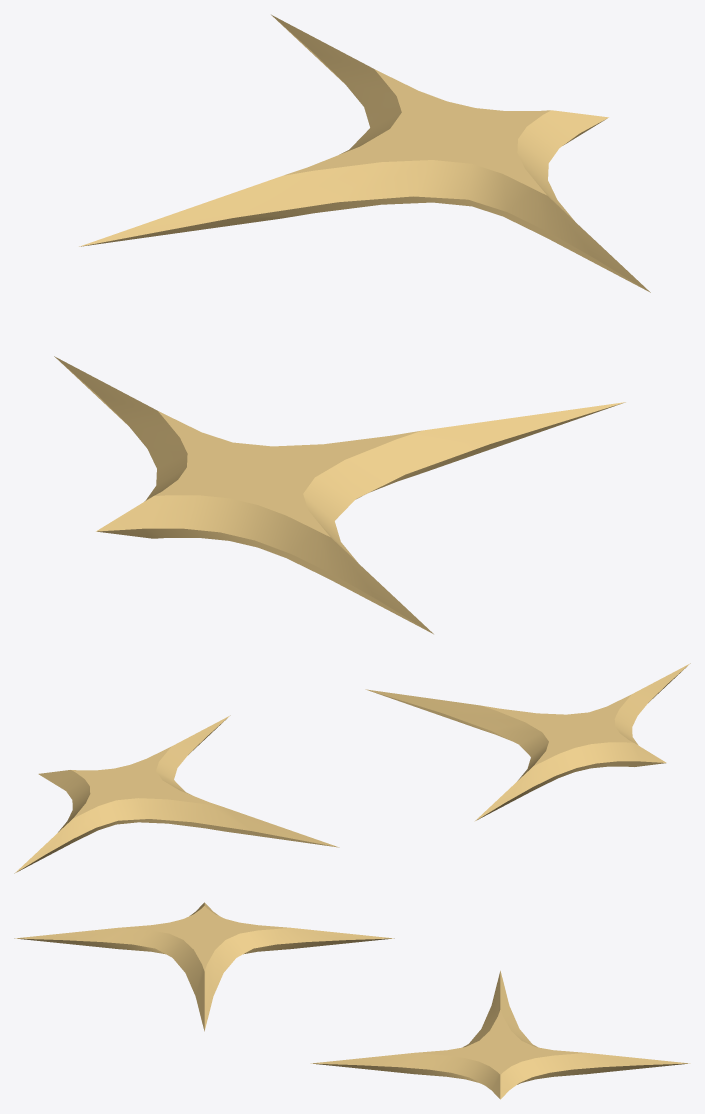
Rendered from Sigil26.fbx.
3 renders of one model, top to bottom at view 1: azimuth 30°, elevation 25°; view 2: azimuth 150°, elevation 25°; view 3: azimuth 270°, elevation 25°, orthographic. The views are drawn at different scales.
Visible parts, largest first — view 1: Sigil_26; view 2: Sigil_26; view 3: Sigil_26.
Boxes of the visible parts, x1,y1,x2,y2 form: Sigil_26: (54,14,650,634); Sigil_26: (14,663,690,873); Sigil_26: (14,902,690,1099).
Size of the model in its own units: 0.1164 by 0.00585 by 0.1686.
